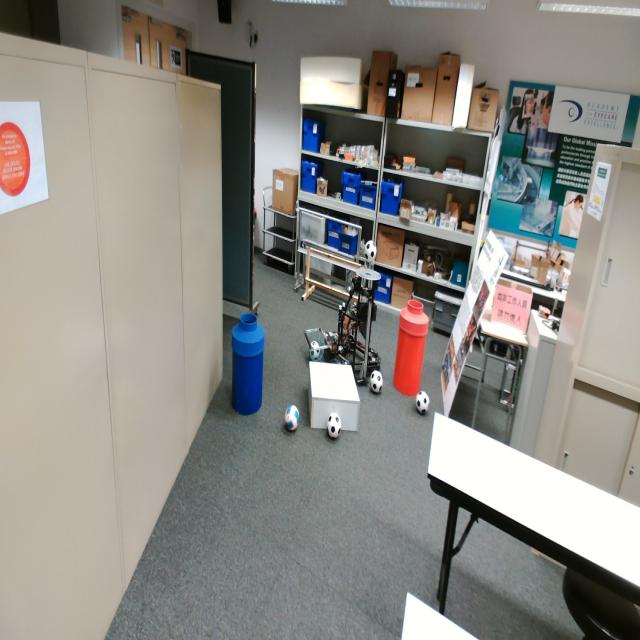ball: (284, 402, 300, 434), (327, 412, 343, 440), (369, 369, 384, 395), (415, 390, 430, 416), (364, 240, 377, 263), (308, 340, 321, 358)
